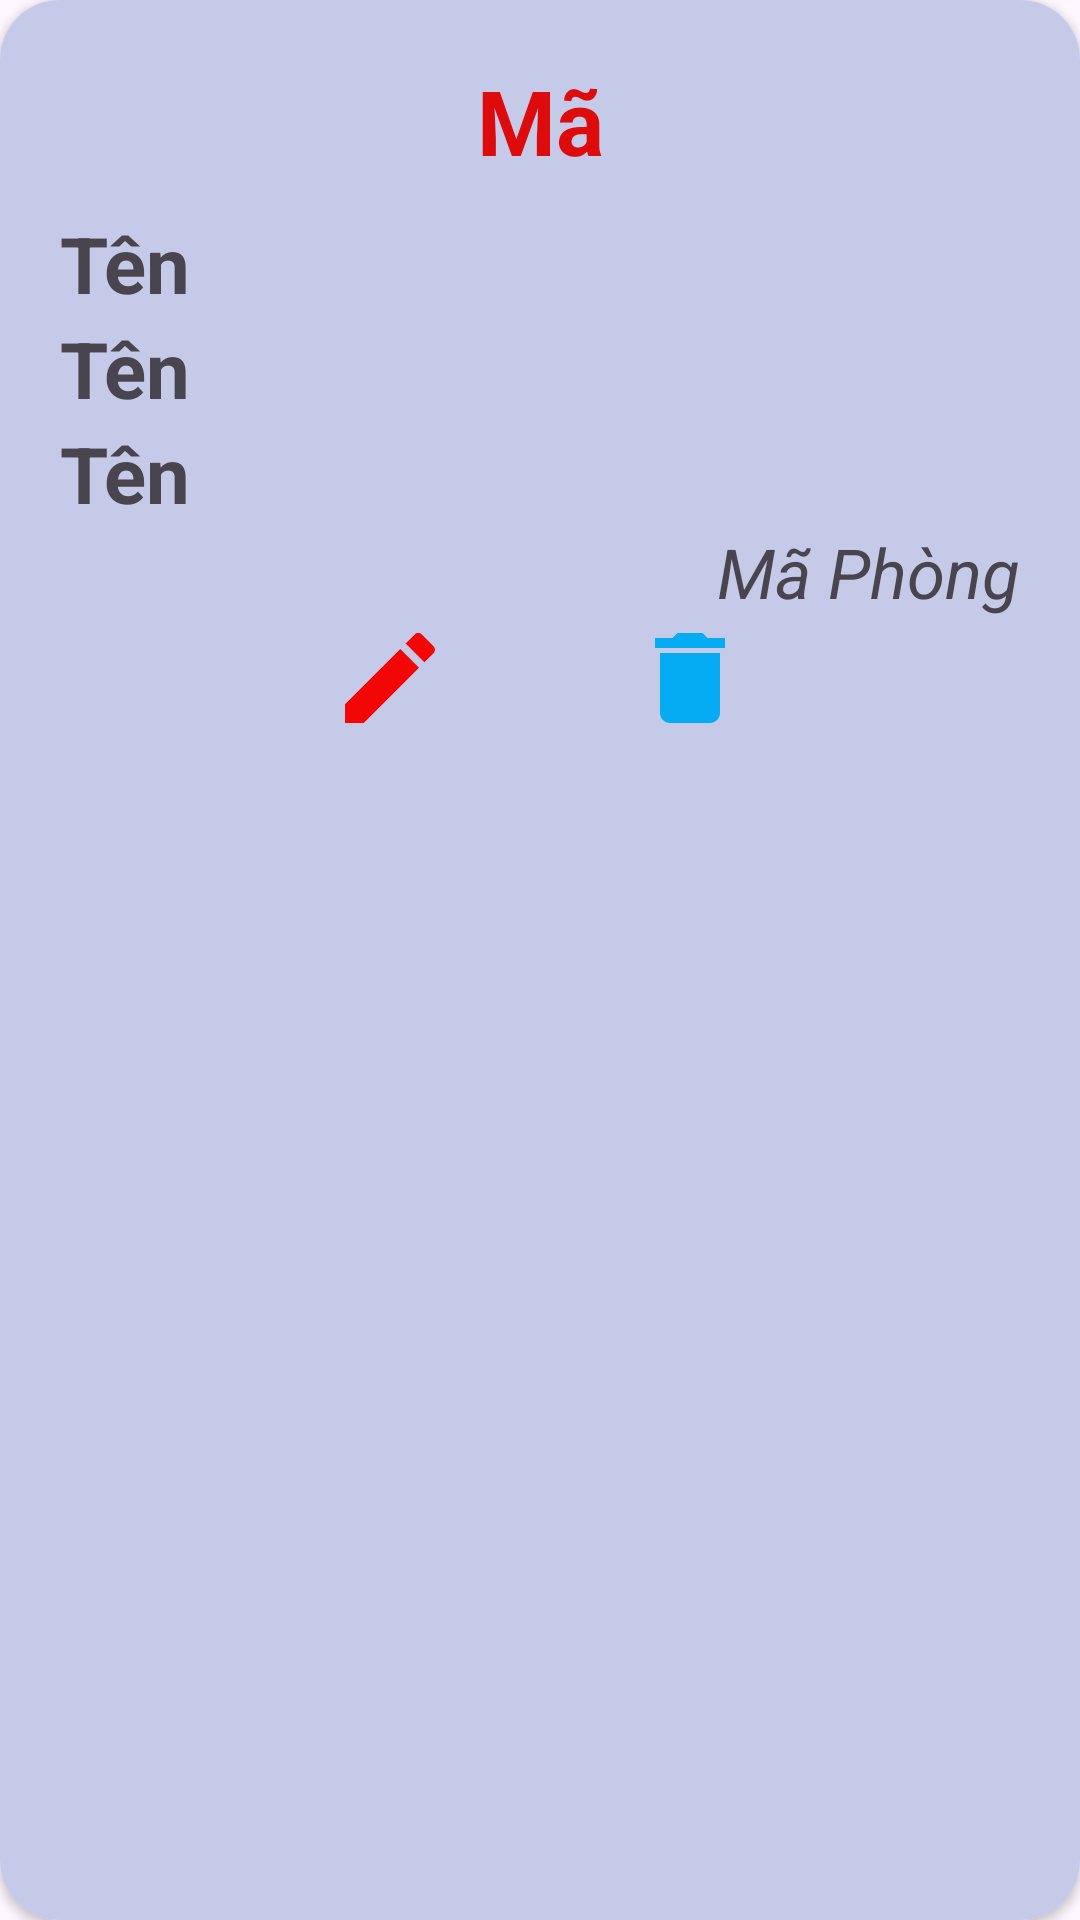

Locate icon controls on the screen. Image size 1080 × 1920, boxes as (x1, y1, x2, y2).
edit: (345, 633, 435, 723)
